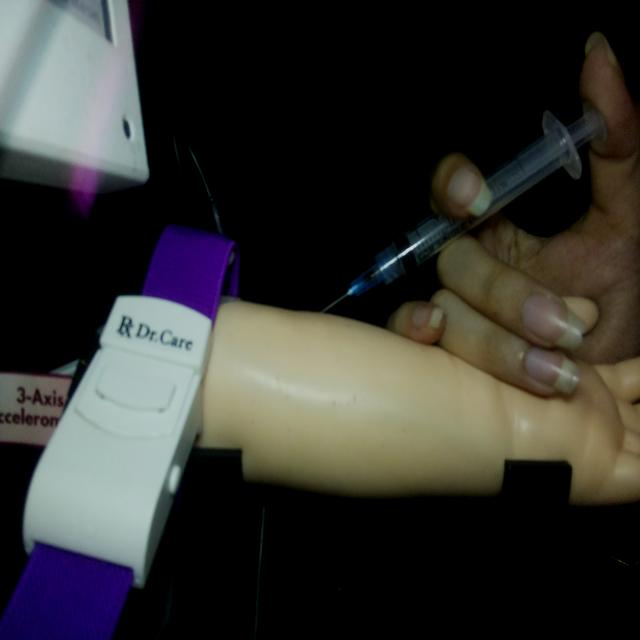23 degrees: (320, 101, 607, 315)
